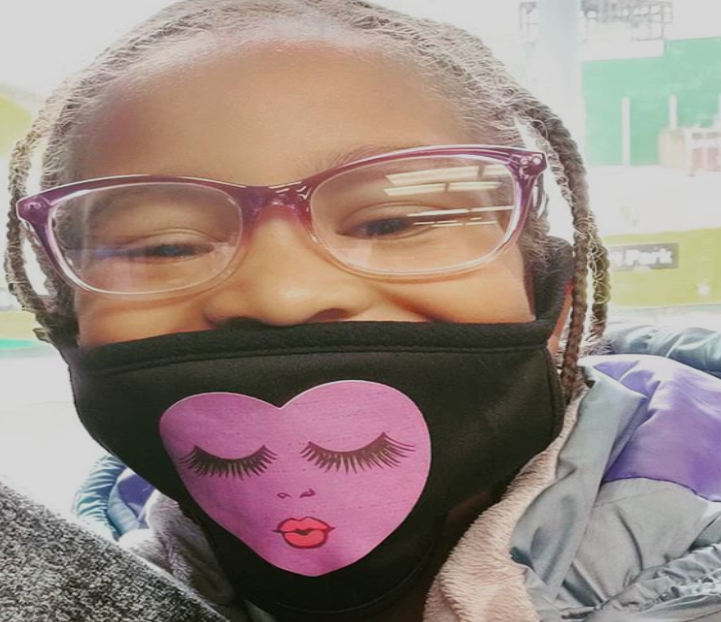mask_weared_incorrect: (6, 2, 603, 620)
